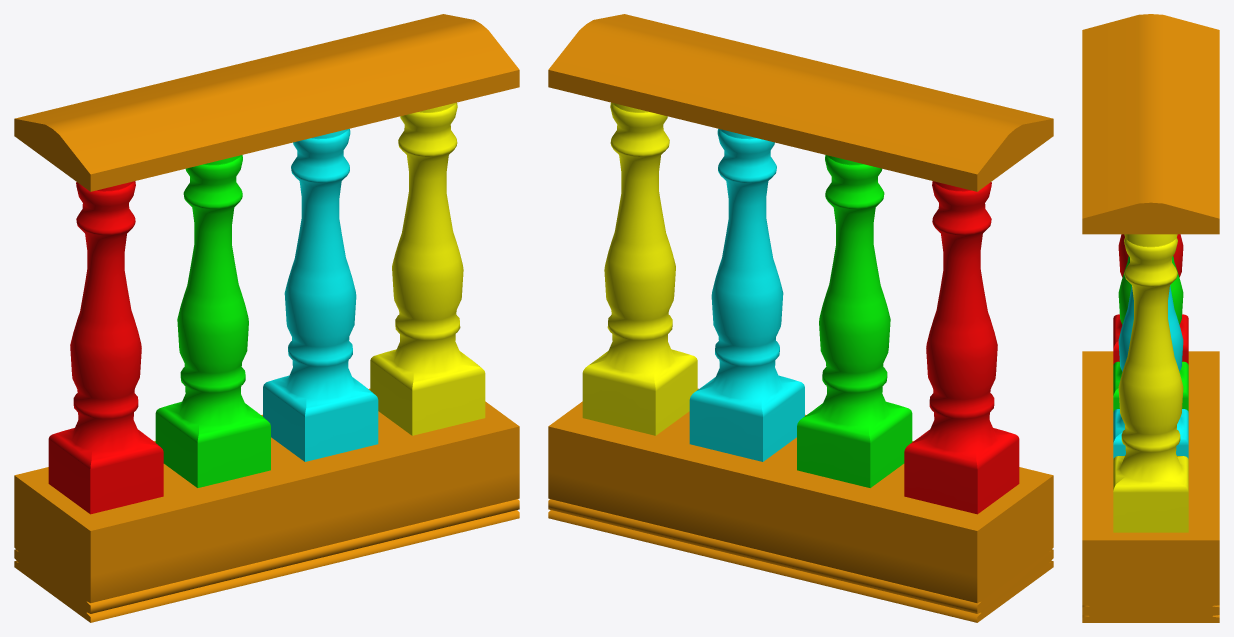
The model's file is Kings_Balcony_Section.fbx.
3 renders of one model, left to right at view 1: azimuth 30°, elevation 25°; view 2: azimuth 150°, elevation 25°; view 3: azimuth 270°, elevation 25°, orthographic. The views are drawn at different scales.
Visible parts, largest first — view 1: Base, Top, pCylinder1, pCylinder3, pCylinder2, pCylinder4; view 2: Base, Top, pCylinder1, pCylinder3, pCylinder2, pCylinder4; view 3: Top, Base, pCylinder4, pCylinder3, pCylinder2, pCylinder1.
Part boxes in pixels (<box>): Base: <box>14,388,519,622</box>; Top: <box>14,14,519,191</box>; pCylinder1: <box>48,181,163,514</box>; pCylinder3: <box>263,129,378,461</box>; pCylinder2: <box>155,155,270,487</box>; pCylinder4: <box>370,102,485,435</box>; Base: <box>548,388,1053,622</box>; Top: <box>548,14,1053,191</box>; pCylinder1: <box>904,181,1019,514</box>; pCylinder3: <box>689,129,804,461</box>; pCylinder2: <box>797,155,912,487</box>; pCylinder4: <box>582,102,697,435</box>; Top: <box>1082,14,1219,234</box>; Base: <box>1082,351,1219,622</box>; pCylinder4: <box>1113,234,1188,532</box>; pCylinder3: <box>1113,285,1188,458</box>; pCylinder2: <box>1113,256,1188,411</box>; pCylinder1: <box>1113,234,1188,364</box>.
Bounding box in the file's own units: 1.34 × 1.39 × 0.4111.
